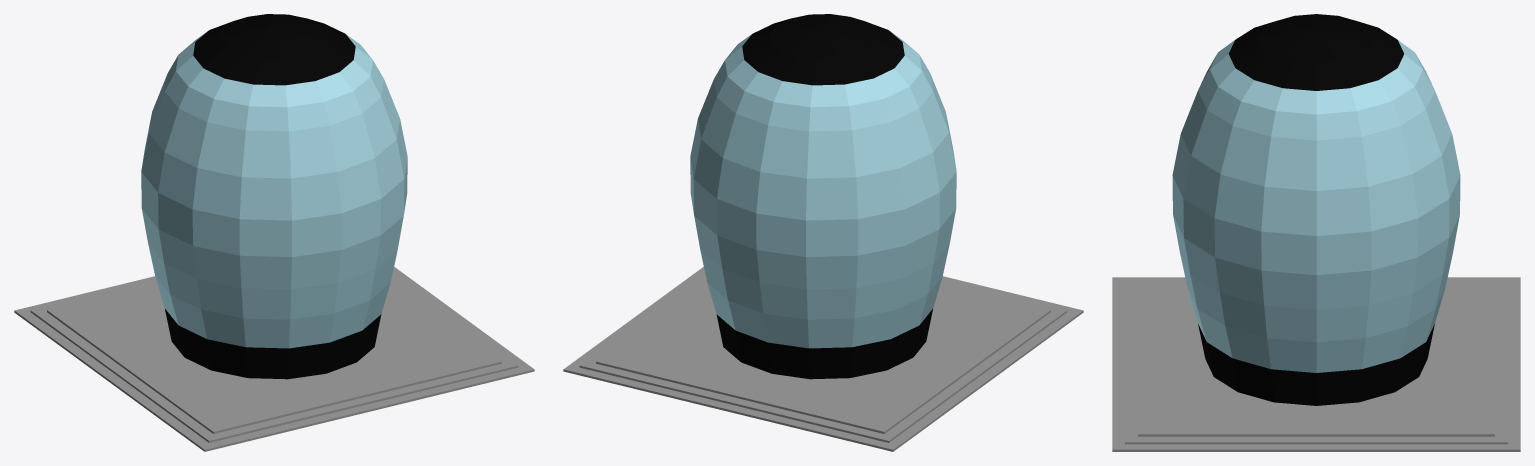
The model's file is RoundBuilding.fbx.
3 renders of one model, left to right at view 1: azimuth 30°, elevation 25°; view 2: azimuth 150°, elevation 25°; view 3: azimuth 270°, elevation 25°, orthographic. The views are drawn at different scales.
Parts seen in each view (by area): view 1: Cylinder, Cube.002, Cube, Cube.001; view 2: Cylinder, Cube.002, Cube, Cube.001; view 3: Cylinder, Cube.002, Cube, Cube.001.
Boxes of the visible parts, left/top/right/bottom form: Cylinder: left=141, top=14, right=407, bottom=379; Cube.002: left=47, top=280, right=501, bottom=433; Cube: left=14, top=267, right=534, bottom=451; Cube.001: left=30, top=274, right=518, bottom=442; Cylinder: left=690, top=14, right=956, bottom=379; Cube.002: left=596, top=280, right=1050, bottom=433; Cube: left=563, top=267, right=1083, bottom=451; Cube.001: left=579, top=274, right=1067, bottom=442; Cylinder: left=1172, top=14, right=1460, bottom=405; Cube.002: left=1138, top=283, right=1494, bottom=436; Cube: left=1112, top=277, right=1520, bottom=451; Cube.001: left=1125, top=280, right=1507, bottom=444.
Bounding box in the file's own units: 1715 × 1566 × 1715.
